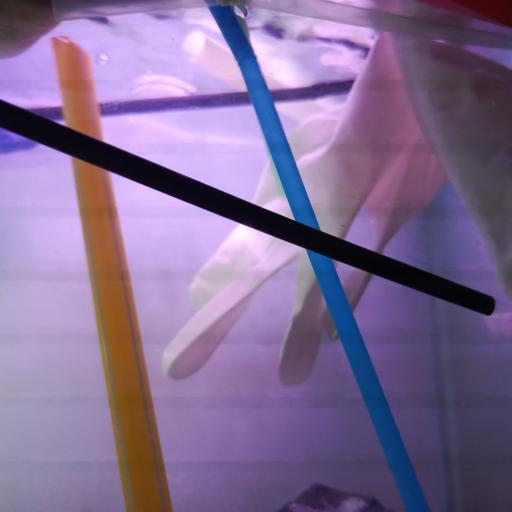glove: (162, 26, 512, 392)
plastic_straw: (205, 0, 430, 512), (0, 98, 497, 315), (51, 32, 176, 512), (53, 0, 512, 54), (27, 78, 356, 122)
